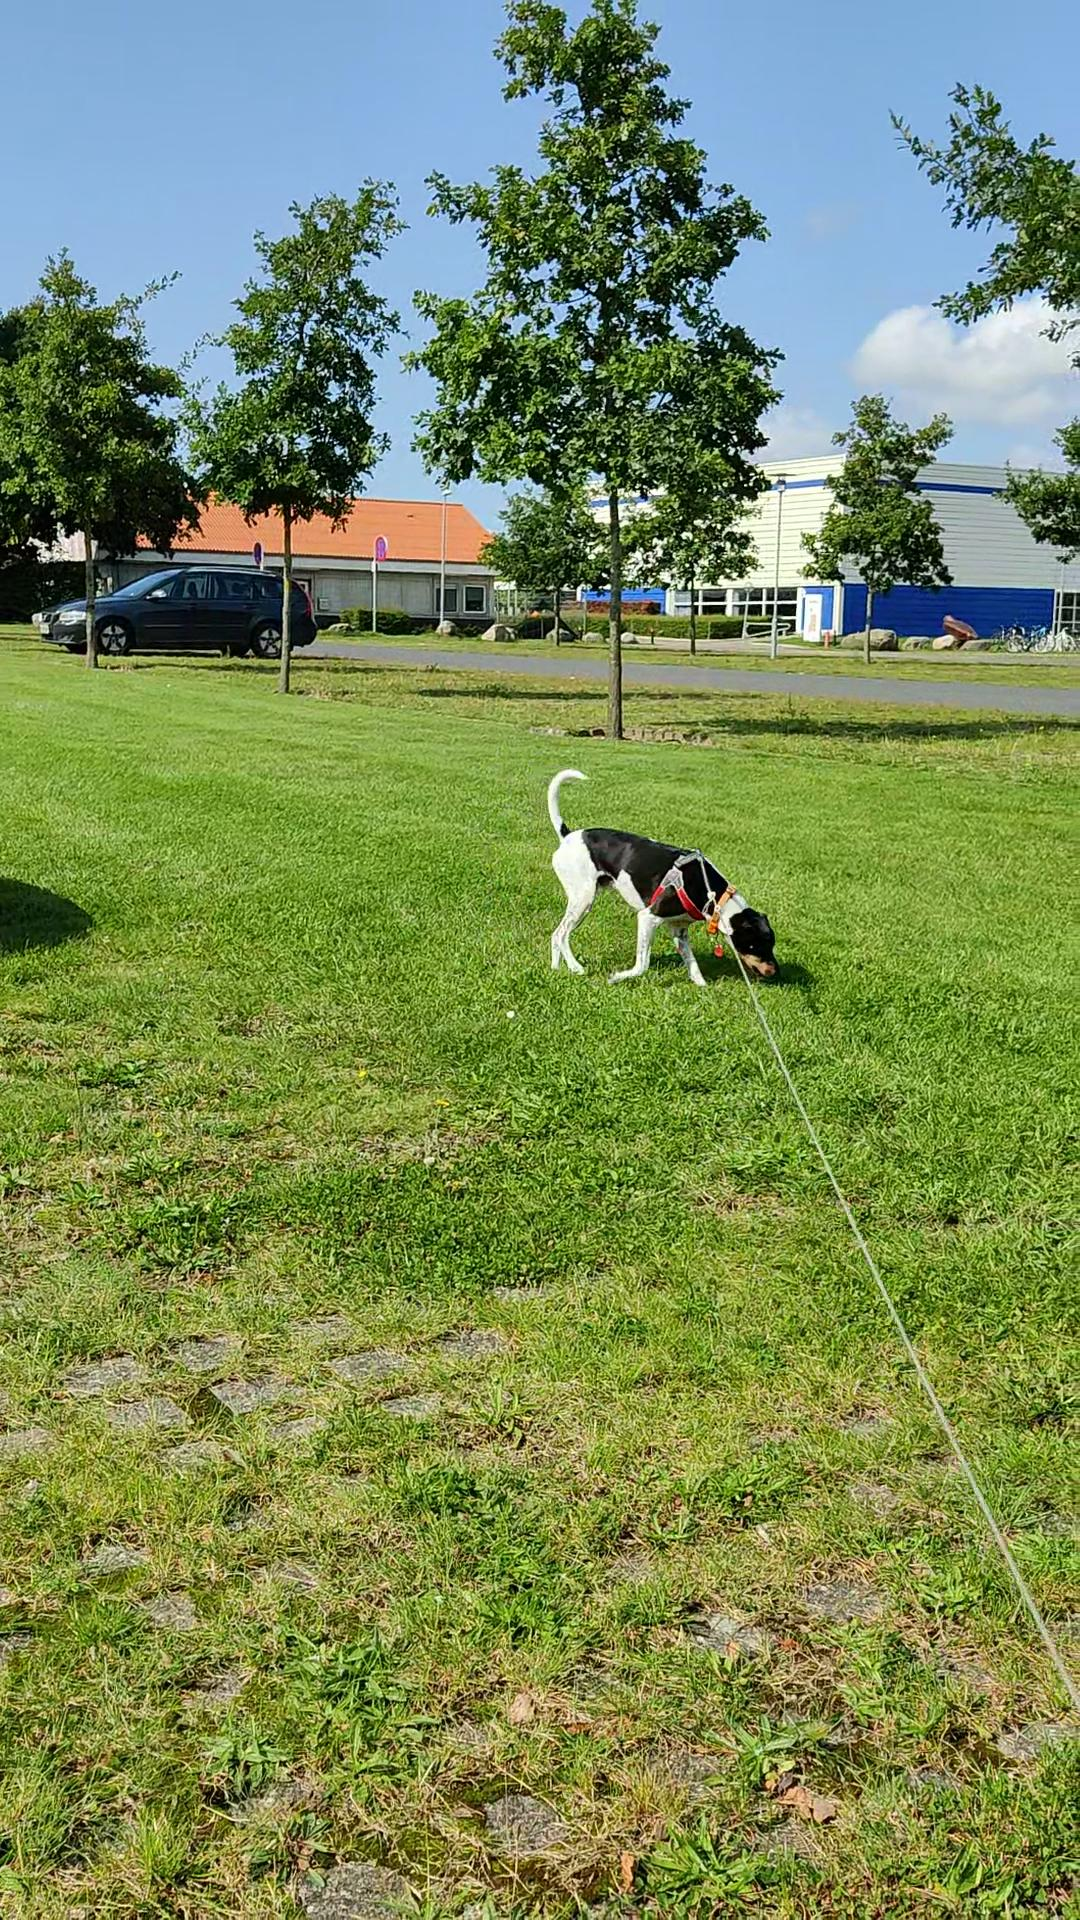Dog: (537, 765, 793, 997)
